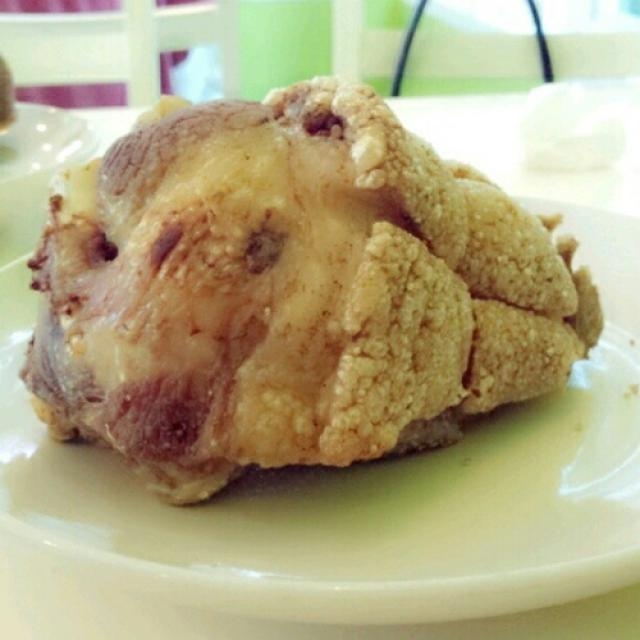猪肉菜式: (16, 42, 620, 634)
